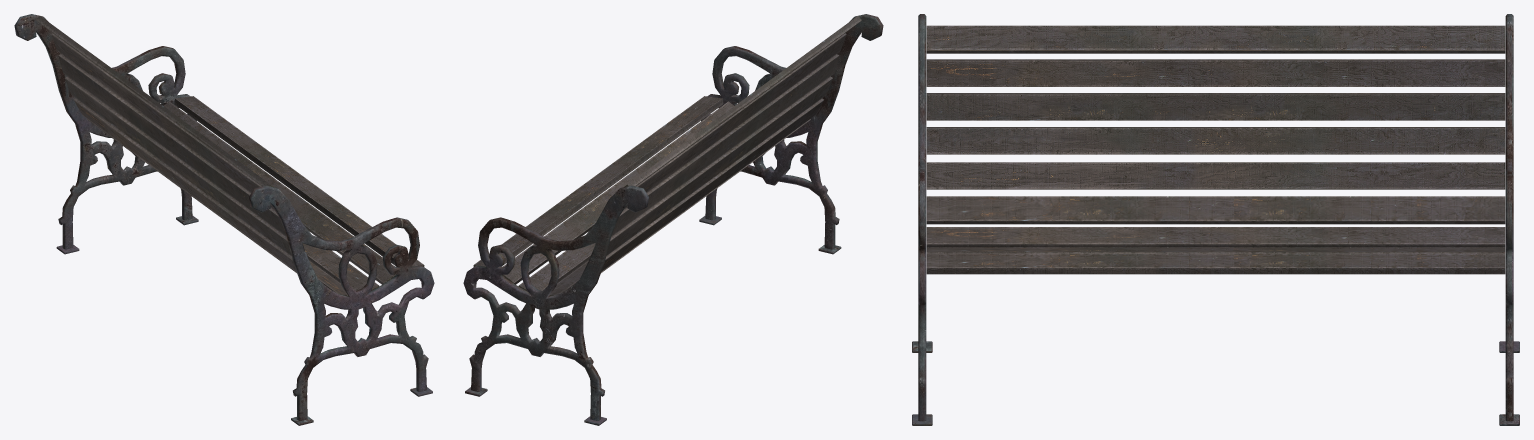
The model's file is SM_Bench.FBX.
The picture shows the model from 3 angles, left to right: view 1: azimuth 30°, elevation 25°; view 2: azimuth 150°, elevation 25°; view 3: azimuth 270°, elevation 25°; orthographic projection. The views are drawn at different scales.
Visible parts, largest first — view 1: SM_Bench_LOD0; view 2: SM_Bench_LOD0; view 3: SM_Bench_LOD0.
Boxes of the visible parts, box(x1,y1,x2,y2) form: SM_Bench_LOD0: box(14, 14, 434, 425); SM_Bench_LOD0: box(463, 14, 883, 425); SM_Bench_LOD0: box(912, 14, 1519, 425).
Size of what is drawn, in the model's own units: 68.99 by 87.42 by 158.
